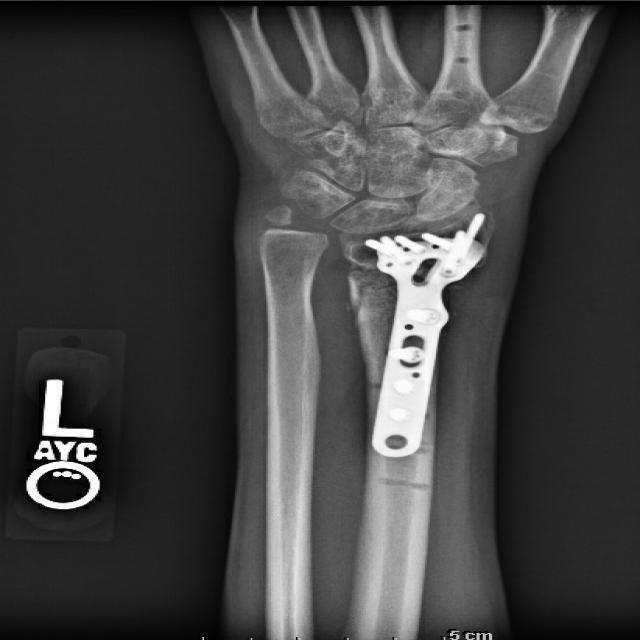x-ray: (339, 206, 498, 462)
